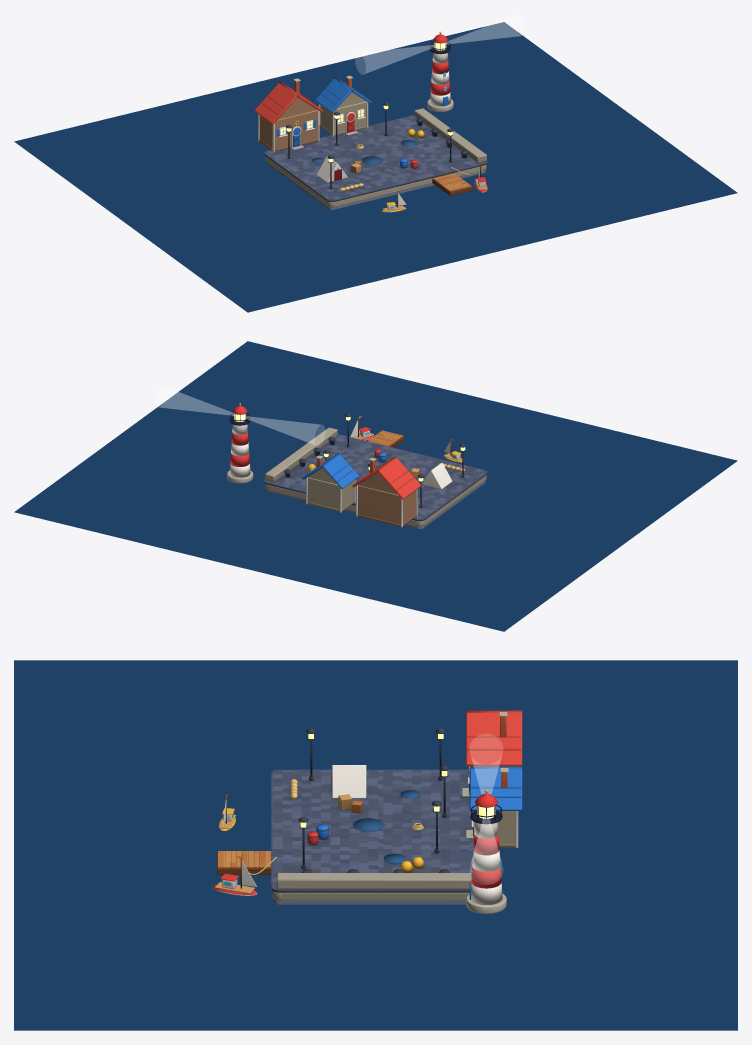
Rendered from storm.glb.
The picture shows the model from 3 angles, top to bottom: view 1: azimuth 30°, elevation 25°; view 2: azimuth 150°, elevation 25°; view 3: azimuth 270°, elevation 25°; orthographic projection. The views are drawn at different scales.
Visible parts, largest first — view 1: storm_Water, storm_Satin, storm_Gloss, Spin_beam_Beam, storm_Matte; view 2: storm_Water, storm_Satin, storm_Gloss, Spin_beam_Beam, storm_Matte; view 3: storm_Water, storm_Satin, storm_Gloss, Spin_beam_Beam, storm_Matte.
Boxes of the visible parts, left/top/right/bottom form: storm_Water: left=14, top=22, right=737, bottom=312; storm_Satin: left=258, top=43, right=487, bottom=209; storm_Gloss: left=254, top=33, right=467, bottom=186; Spin_beam_Beam: left=355, top=15, right=525, bottom=74; storm_Matte: left=264, top=115, right=487, bottom=202; storm_Water: left=14, top=341, right=737, bottom=631; storm_Satin: left=227, top=414, right=487, bottom=528; storm_Gloss: left=229, top=405, right=466, bottom=505; Spin_beam_Beam: left=155, top=386, right=324, bottom=445; storm_Matte: left=264, top=432, right=487, bottom=521; storm_Water: left=14, top=660, right=737, bottom=1030; storm_Satin: left=217, top=712, right=518, bottom=913; storm_Gloss: left=298, top=710, right=522, bottom=904; Spin_beam_Beam: left=470, top=734, right=502, bottom=884; storm_Matte: left=225, top=769, right=469, bottom=892.
Bounding box in the file's own units: 46 × 8.18 × 38.
